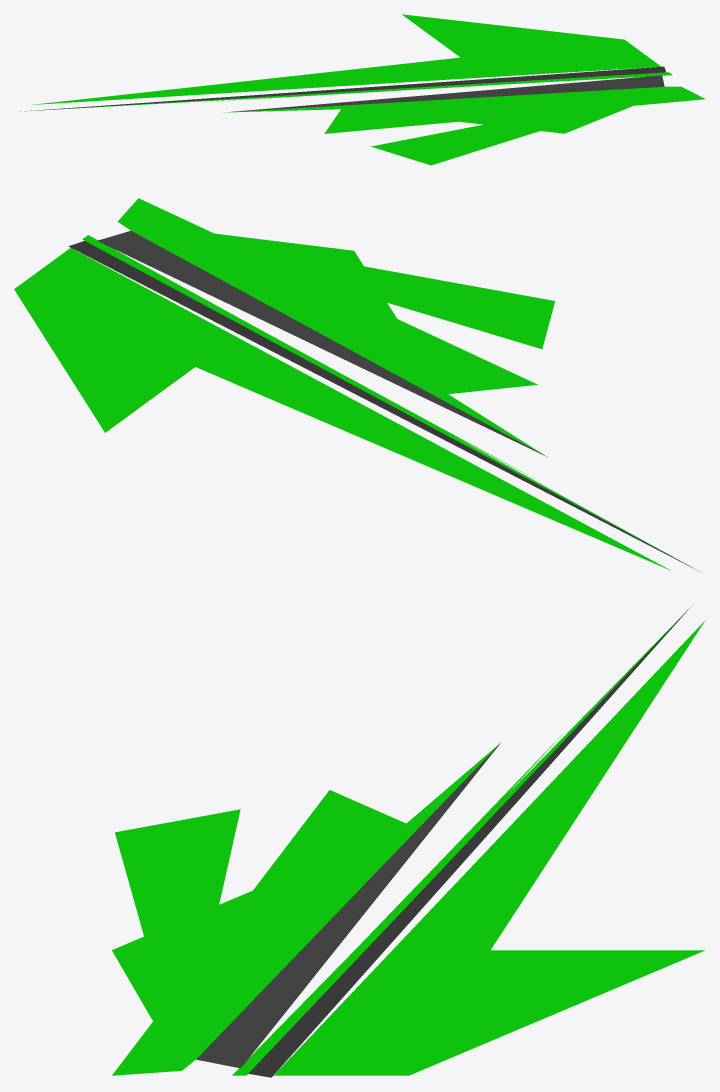
The picture shows the model from 3 angles, top to bottom: view 1: azimuth 30°, elevation 25°; view 2: azimuth 150°, elevation 25°; view 3: azimuth 270°, elevation 25°; orthographic projection. The views are drawn at different scales.
Bounding box in the file's own units: 113 × 0 × 69.87.
